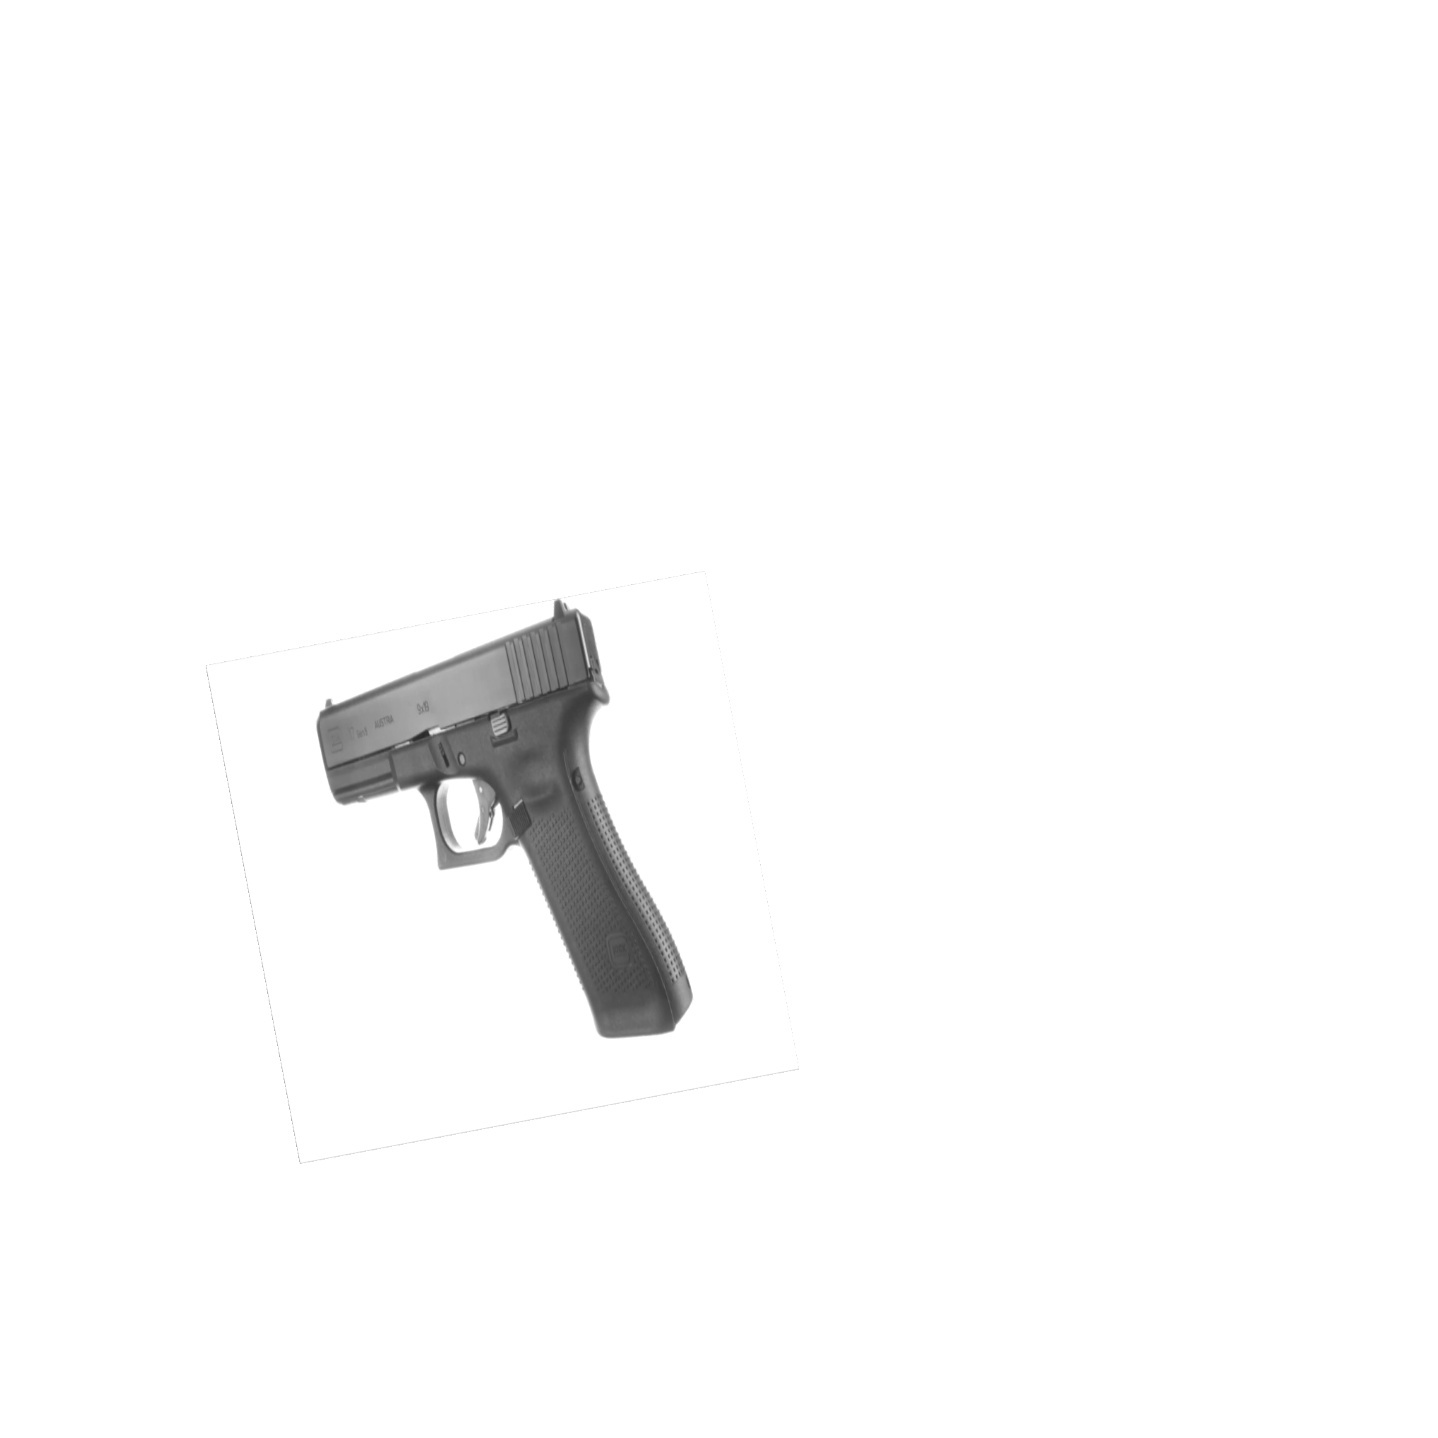gun: (316, 603, 691, 1040)
